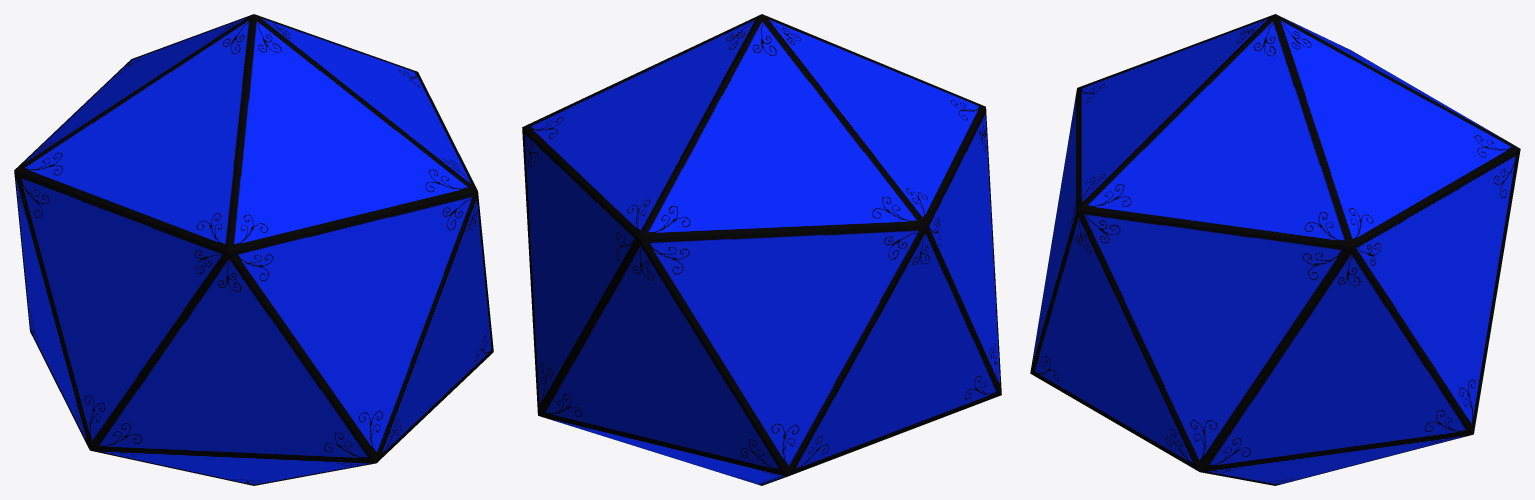
The model's file is Newd20.fbx.
3 renders of one model, left to right at view 1: azimuth 30°, elevation 25°; view 2: azimuth 150°, elevation 25°; view 3: azimuth 270°, elevation 25°, orthographic.
Parts seen in each view (by area): view 1: D20; view 2: D20; view 3: D20.
Boxes of the visible parts, x1,y1,x2,y2 form: D20: [14, 14, 493, 485]; D20: [522, 14, 1001, 485]; D20: [1030, 14, 1520, 485].
Size of the model in its own units: 118 by 131 by 124.
Materials: 1 (1 with a texture image).
